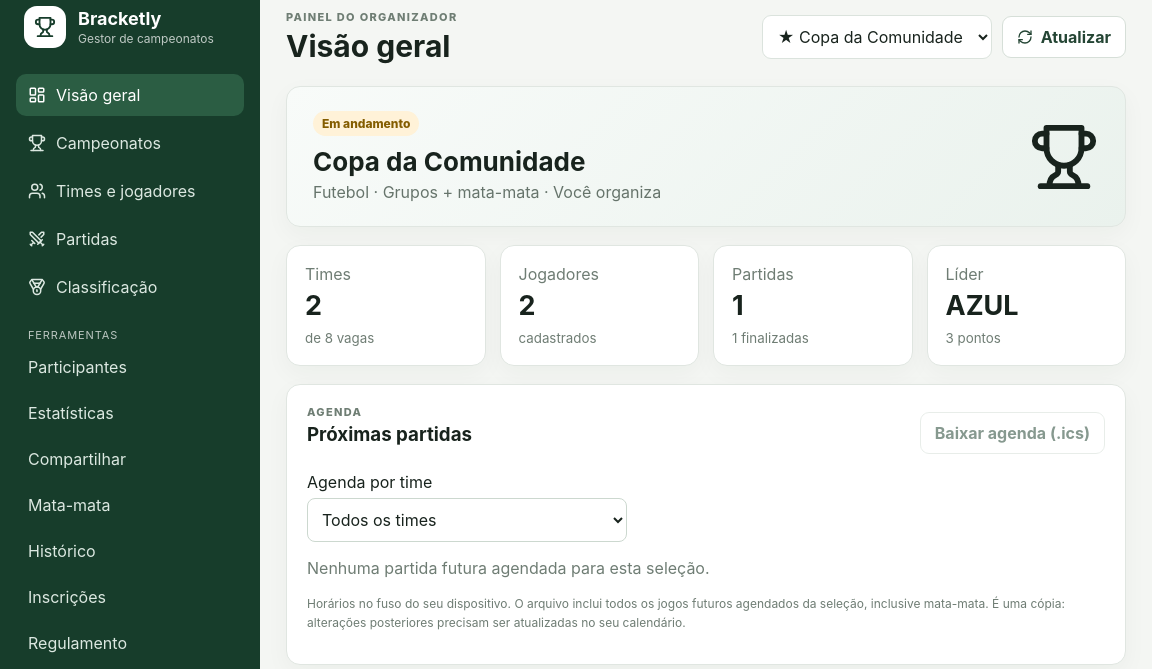
Test case: preserva o formulário quando ocorre falha de rede
Expected: the heading "Copa da Comunidade" is shown, [313,146,585,177]
Click the button "Times e jogadores". click: x=130, y=191
box: [16,170,244,212]
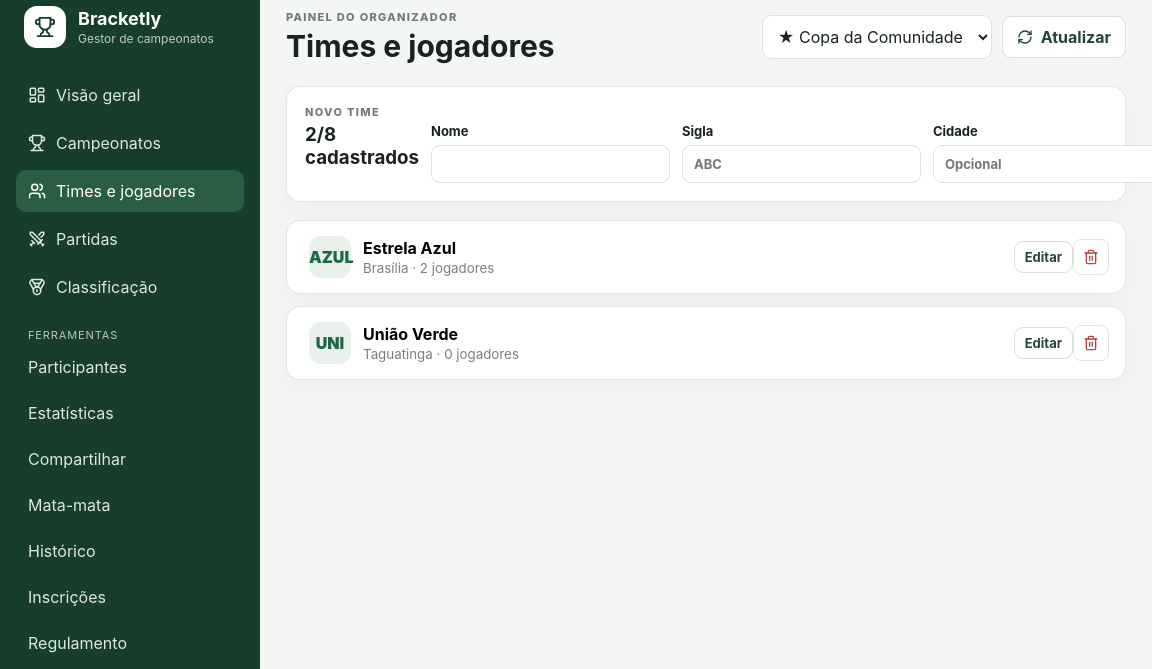
Click the button "AZUL Estrela Azul Brasília · 2 jogadores". click: x=330, y=257
box: [303,235,1014,279]
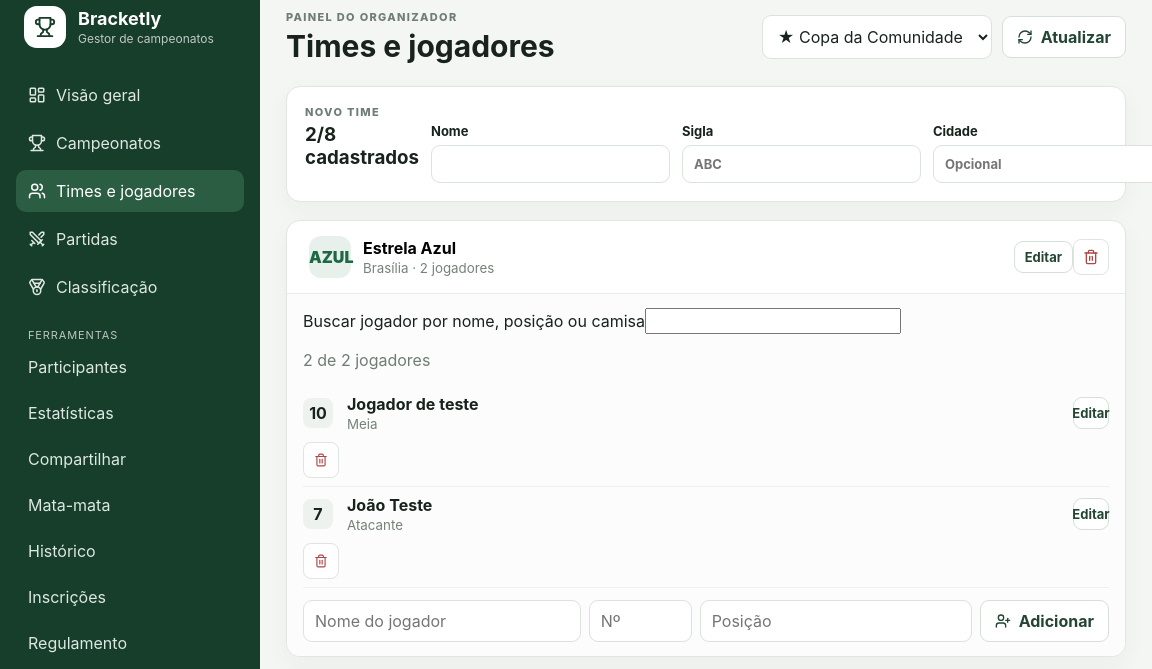
Type "Cadastro pendente" into the field labelled "Nome do jogador". click: x=442, y=621
box: [303,600,581,642]
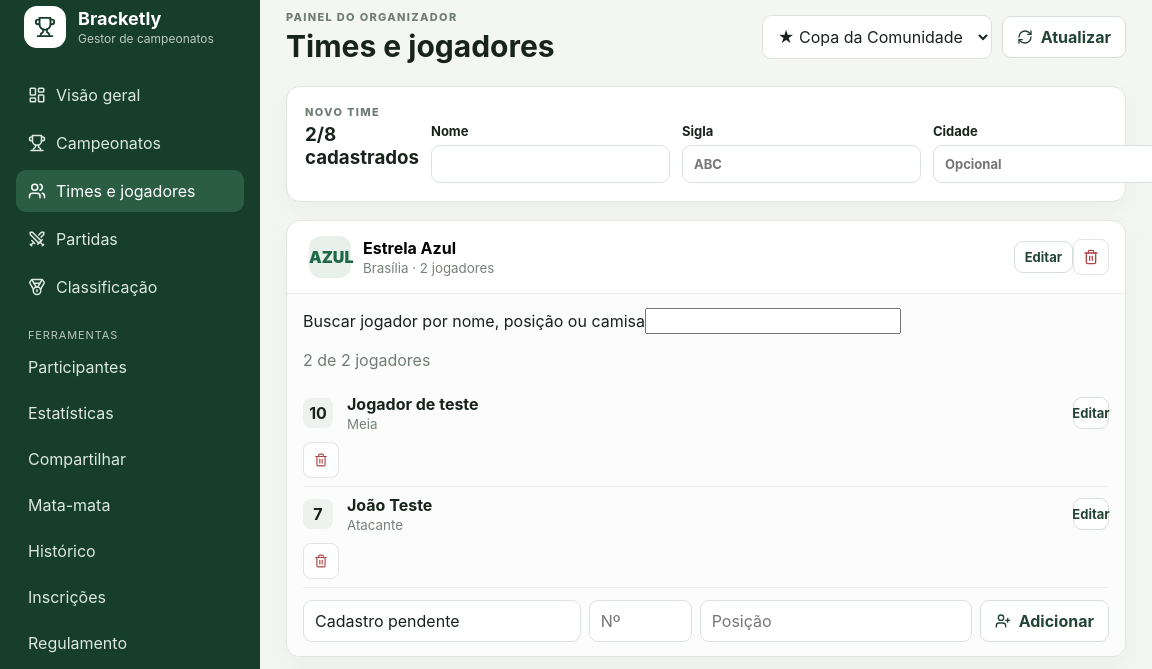
Submit the form named "Nome do jogador", box [303,600,1109,642]
(page scrolled)
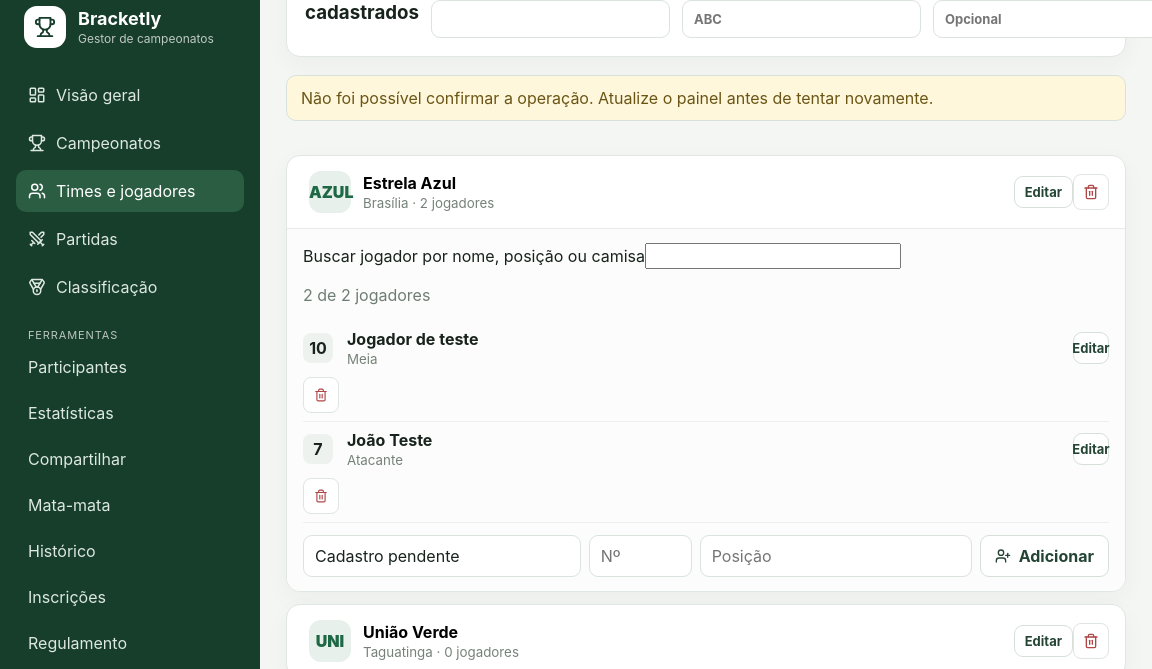
Expected: the field named "Nome do jogador" is enabled, [303,535,581,577]
Expected: the text "Não foi possível confirmar a operação" is shown, [301,88,933,108]
